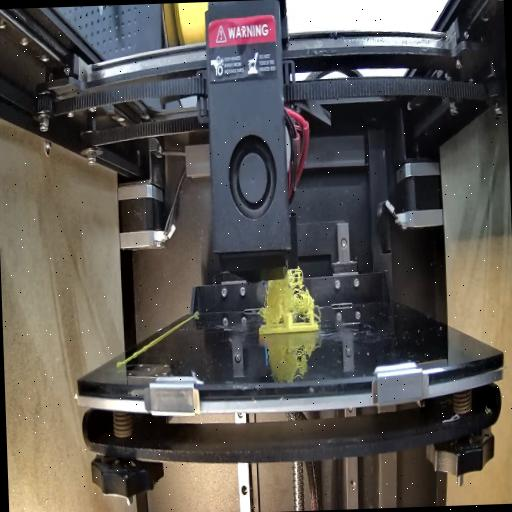spaghetti: (261, 266, 321, 324)
